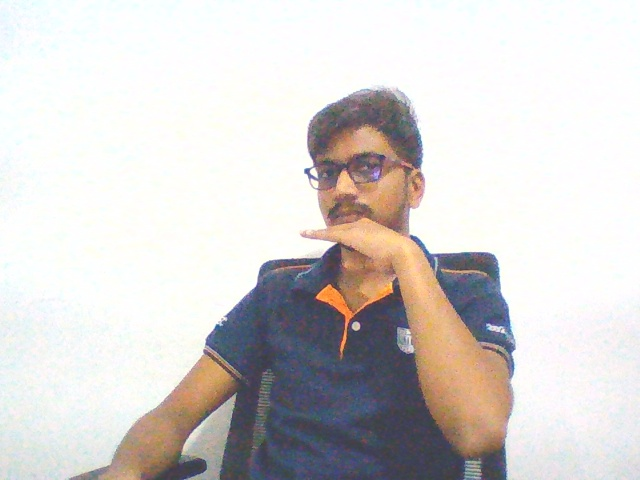elephant: (295, 212, 424, 272)
